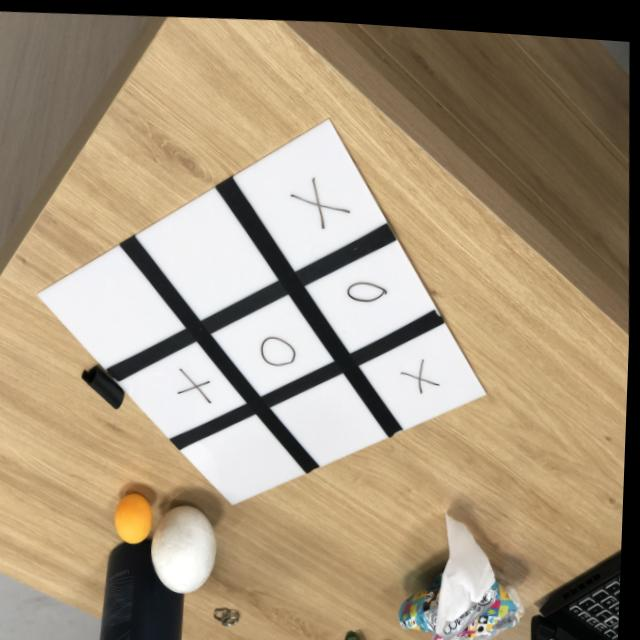null: (38, 234, 188, 387), (135, 180, 280, 331), (181, 401, 309, 512), (273, 357, 391, 477)
o: (258, 329, 305, 368), (344, 267, 390, 301)
table: (35, 113, 491, 562)
x: (290, 168, 357, 230), (174, 359, 219, 408), (401, 348, 445, 393)
